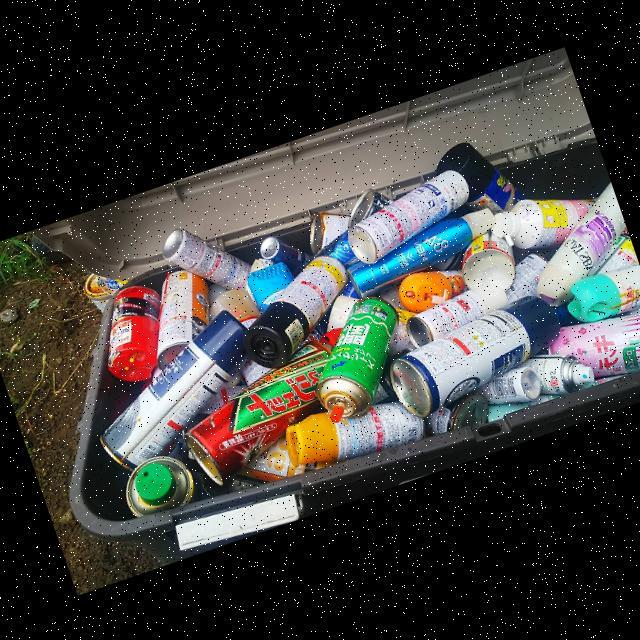chemical_spray_can: (98, 309, 246, 470), (182, 339, 332, 484), (389, 295, 559, 416), (346, 207, 493, 296), (347, 168, 468, 262), (315, 296, 397, 420), (284, 401, 423, 465), (547, 312, 640, 377), (160, 227, 248, 287), (517, 353, 594, 394)
